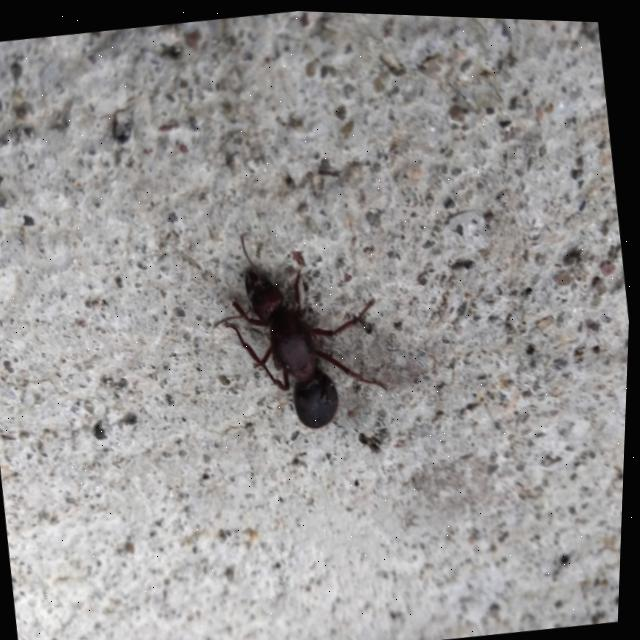Alive-Female-Dealate: (201, 215, 400, 441)
